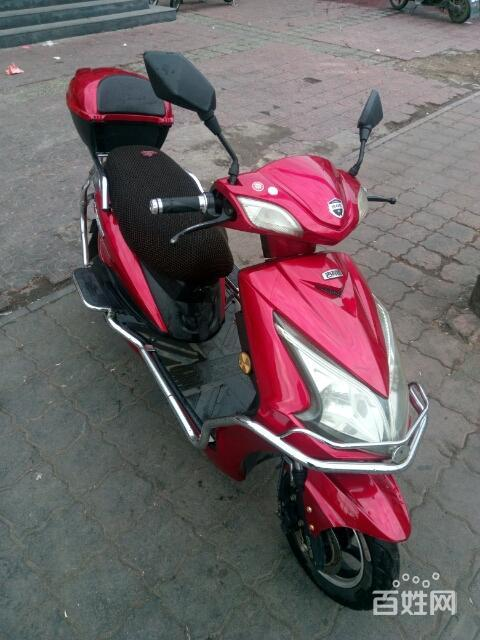电动车: (61, 44, 433, 617)
